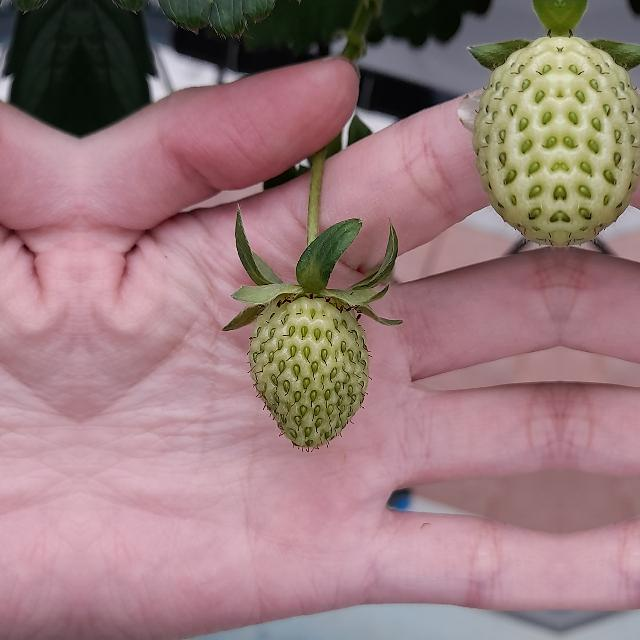Health_25: (249, 293, 369, 447), (476, 34, 560, 240), (560, 34, 640, 239)
